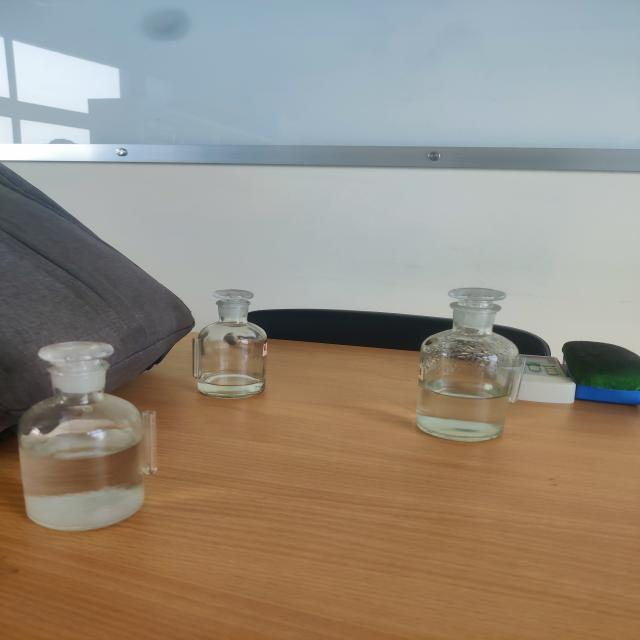Reagent_Bottle: (0, 325, 176, 550), (388, 261, 550, 462), (171, 281, 294, 424)
